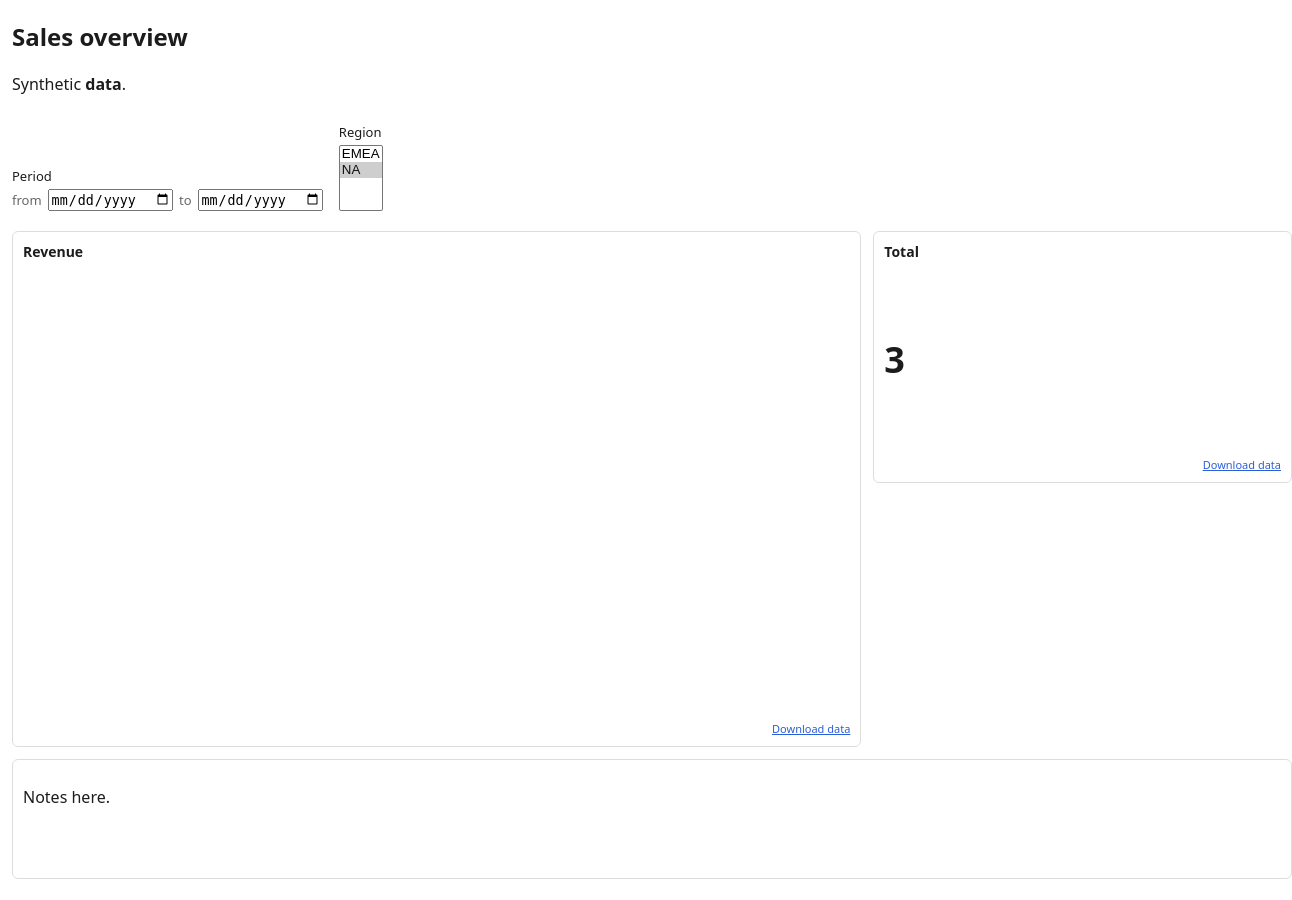
Test case: DashboardPage › writes filter changes to the URL and pushes them into every tile
The width and height of the screenshot is (1292, 900).
Select "NA" in the dropdown labelled "Region": coordinates (361, 178) 339,145 -> 383,211
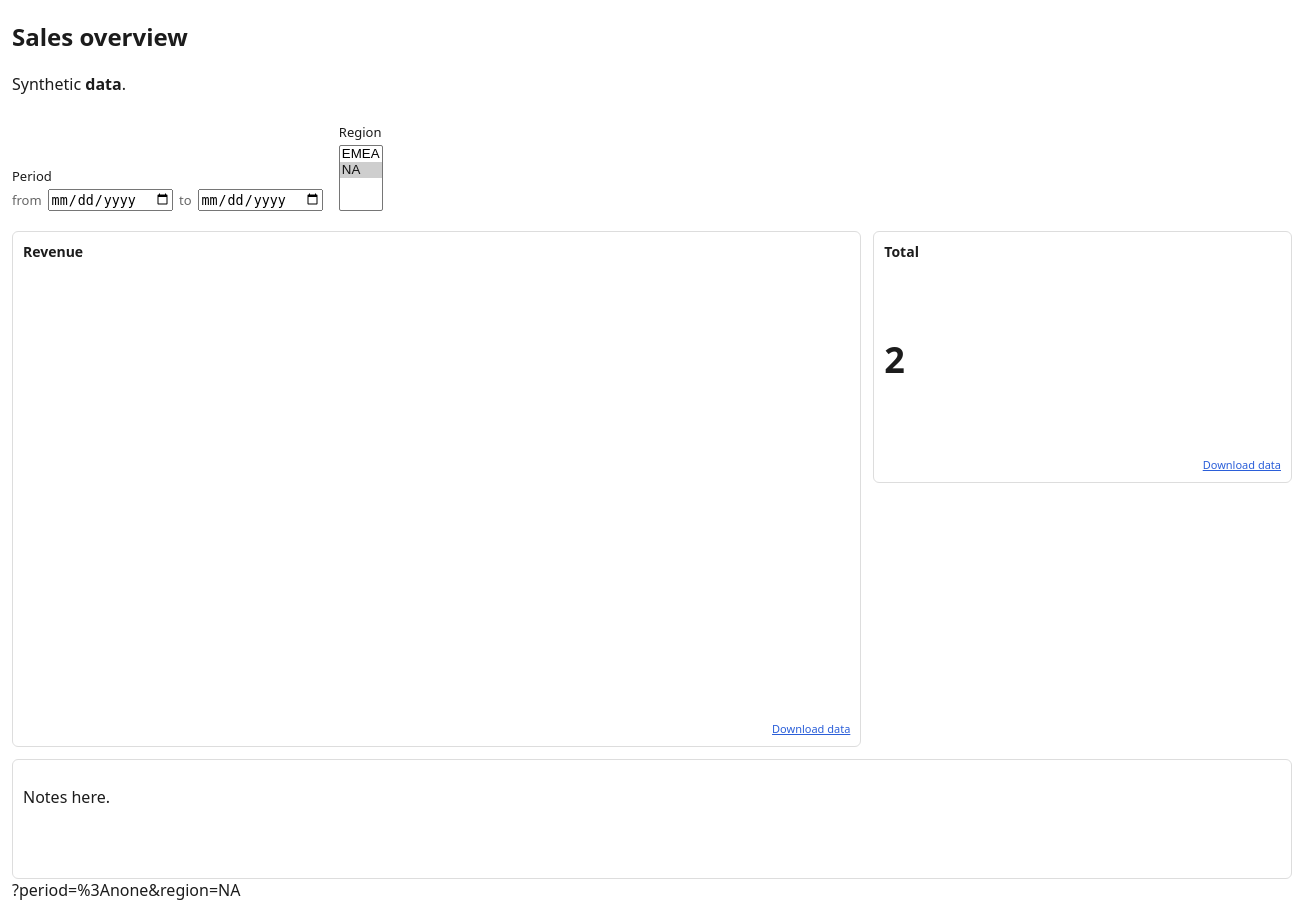
Expected: the text with test id "search" shows "region=NA", 12,879 -> 240,899
Expected: the text with test id "stat-value" reads "2", 884,335 -> 905,384
